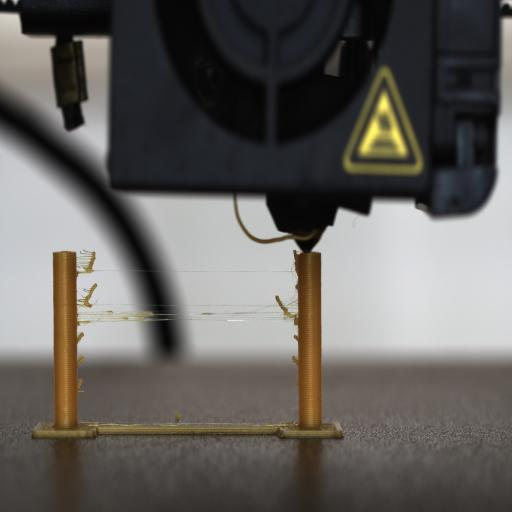stringing: (98, 304, 282, 324), (75, 246, 99, 392), (279, 252, 301, 315), (95, 268, 281, 275), (236, 301, 290, 315), (77, 282, 98, 308), (76, 248, 96, 274), (290, 249, 300, 287), (292, 354, 299, 395), (284, 402, 298, 414), (80, 248, 96, 257), (76, 331, 84, 345), (77, 355, 85, 366), (293, 249, 301, 260), (77, 378, 83, 392), (292, 355, 298, 367), (276, 295, 282, 303), (76, 320, 81, 326)
